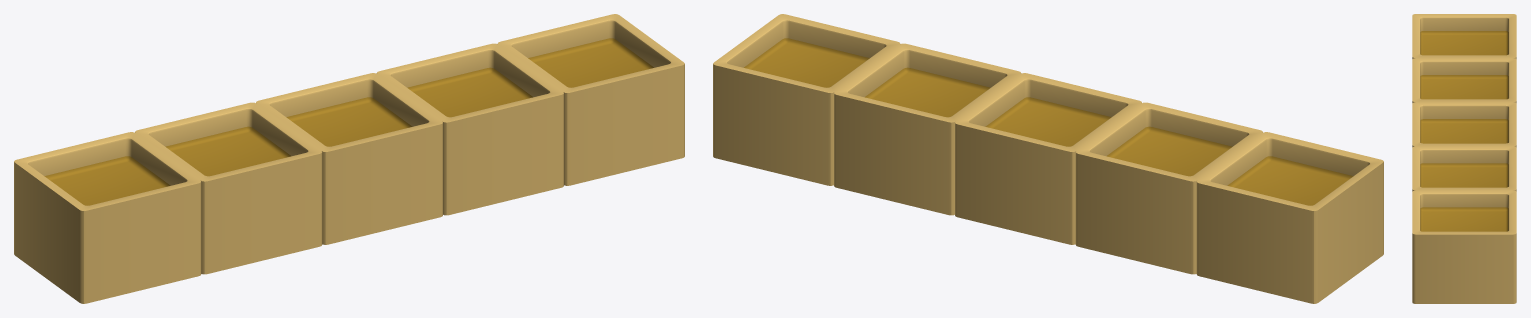
File: rack_full.fbx
3 renders of one model, left to right at view 1: azimuth 30°, elevation 25°; view 2: azimuth 150°, elevation 25°; view 3: azimuth 270°, elevation 25°, orthographic. The views are drawn at different scales.
Parts seen in each view (by area): view 1: Cube.001; view 2: Cube.001; view 3: Cube.001.
Boxes of the visible parts, box(x1,y1,x2,y2) form: Cube.001: box(14, 14, 684, 303); Cube.001: box(713, 14, 1383, 303); Cube.001: box(1412, 14, 1516, 303).
Bounding box in the file's own units: 1000 × 147 × 200.
